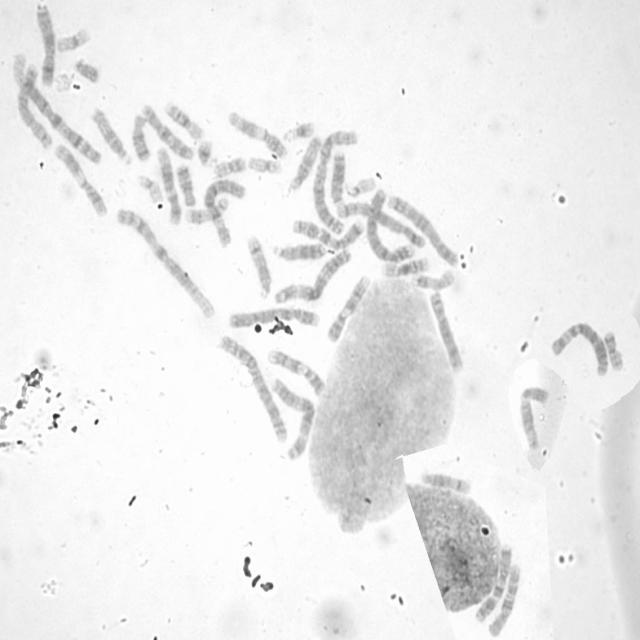A1: (116, 205, 216, 321), (11, 52, 102, 166)
A2: (217, 334, 289, 445), (312, 128, 358, 235)
A3: (273, 248, 354, 306), (268, 376, 316, 464)
B4: (365, 187, 415, 264), (228, 307, 321, 330)
B5: (386, 193, 460, 269), (336, 201, 426, 250)
C10: (141, 104, 195, 160), (487, 563, 522, 636)
C11: (54, 140, 110, 218), (228, 108, 289, 162)
C12: (519, 384, 550, 454), (156, 145, 182, 225)
C6: (549, 320, 608, 377), (204, 178, 248, 250)
C7: (474, 542, 513, 626), (290, 219, 366, 252)
C8: (15, 61, 52, 150), (429, 289, 465, 374)
C9: (326, 273, 372, 344), (267, 347, 326, 398)
D13: (270, 242, 328, 262), (330, 149, 346, 209)
D14: (244, 235, 274, 303), (419, 471, 471, 496)
D15: (281, 134, 322, 201), (91, 105, 133, 167)
E16: (164, 100, 205, 142), (381, 256, 429, 278)
E17: (184, 195, 230, 227), (414, 268, 455, 292)
E18: (130, 114, 153, 162), (174, 162, 197, 208)
F19: (56, 23, 92, 54), (248, 154, 283, 176)
F20: (602, 328, 626, 372), (211, 154, 246, 180)
G21: (282, 119, 316, 144), (197, 138, 220, 171)
G22: (136, 172, 165, 206), (344, 176, 377, 200)
X: (33, 2, 57, 89)
Y: (76, 57, 99, 85)
